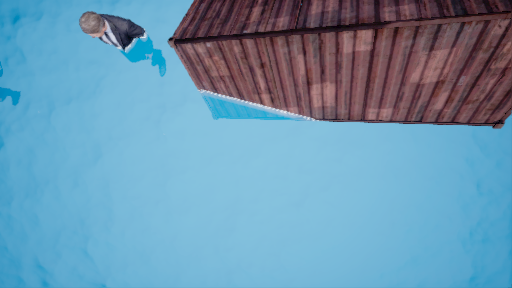person: (75, 10, 162, 70)
